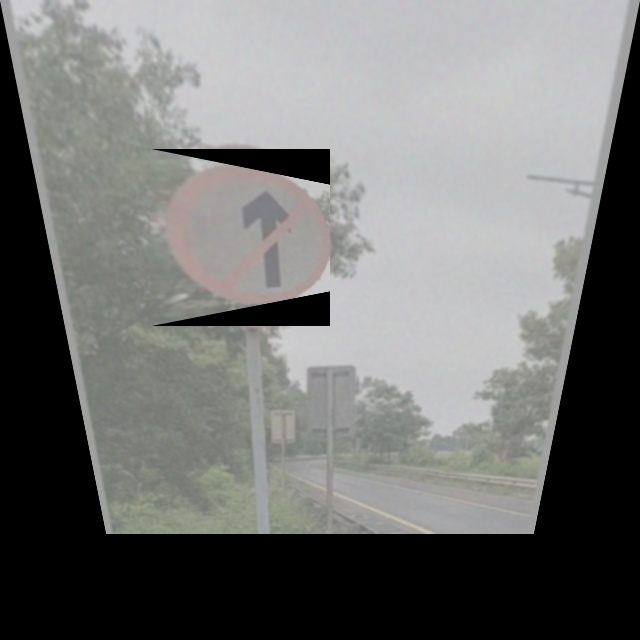No_Entry: (151, 149, 330, 326)
